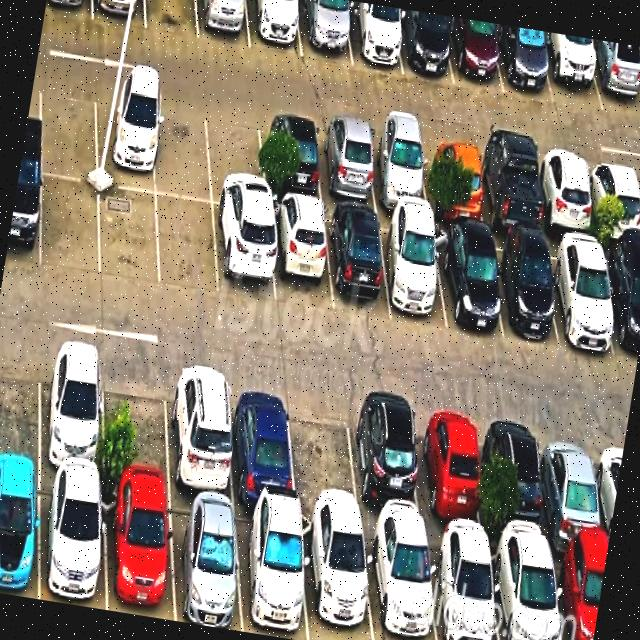empty: (289, 386, 360, 522), (104, 353, 171, 492), (205, 105, 266, 212), (157, 195, 219, 295), (154, 96, 212, 201), (100, 186, 159, 289), (40, 77, 97, 181), (42, 175, 100, 276), (0, 336, 40, 468), (145, 0, 199, 39)
occupied: (348, 394, 425, 531), (168, 494, 243, 632), (103, 484, 175, 621), (235, 505, 308, 640), (414, 402, 484, 541), (40, 472, 107, 610), (168, 363, 234, 502), (540, 420, 607, 556), (301, 514, 373, 640), (229, 374, 296, 509), (40, 341, 104, 480), (487, 412, 551, 549), (363, 527, 437, 640), (545, 238, 617, 353), (486, 234, 558, 342), (433, 227, 503, 338), (427, 533, 499, 640), (379, 216, 447, 329), (325, 208, 391, 317), (489, 542, 561, 640), (270, 200, 333, 311), (95, 87, 155, 193), (213, 206, 275, 304), (476, 145, 542, 236), (259, 113, 323, 202), (422, 137, 486, 225), (367, 128, 430, 214), (316, 121, 378, 208), (0, 467, 40, 599), (535, 152, 596, 238), (551, 550, 607, 640), (540, 31, 603, 111), (586, 158, 640, 244), (601, 245, 640, 363), (394, 8, 453, 84), (496, 24, 553, 102), (447, 16, 503, 93), (344, 0, 402, 74), (586, 38, 640, 117), (5, 167, 42, 268), (298, 0, 352, 63), (246, 0, 302, 57), (196, 0, 250, 49), (92, 0, 146, 28), (45, 0, 93, 20)
